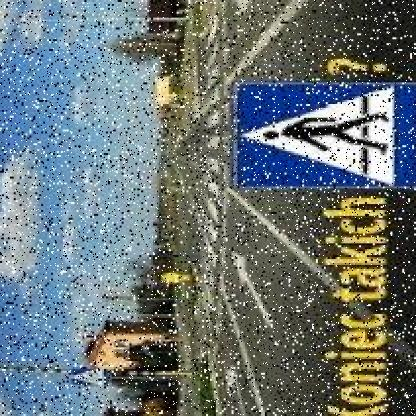Pedestrian Crossing: (226, 77, 416, 189), (69, 365, 114, 387)
